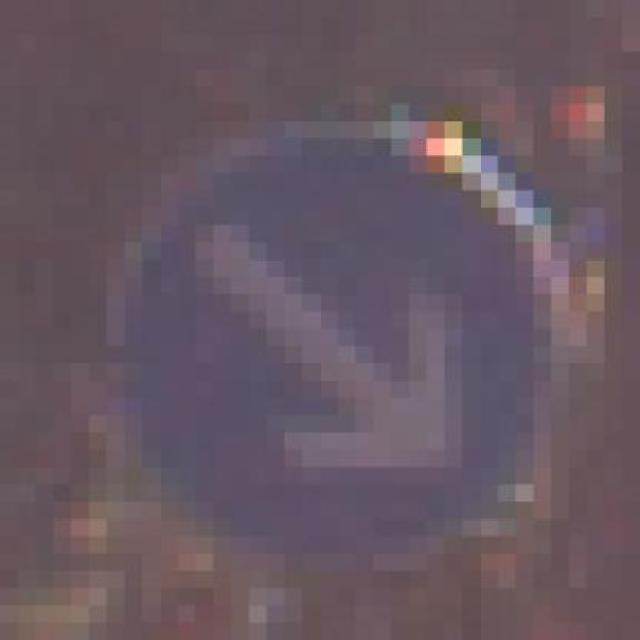Keep-Right: (89, 86, 605, 588)
